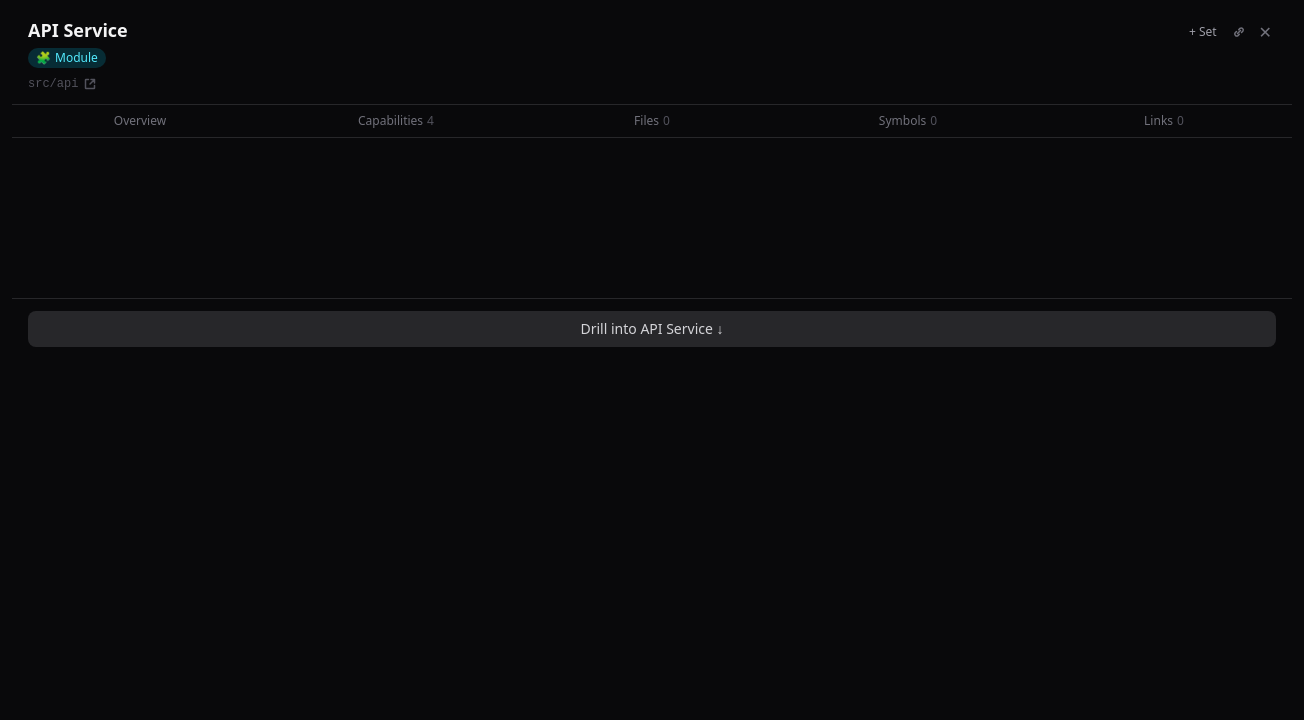
Test: P5-3 Capabilities tab › groups capabilities by kind in api, cli, event, job order and lists them
Click the button "Capabilities4" at {"x": 396, "y": 121}, box [268,105,524,137]
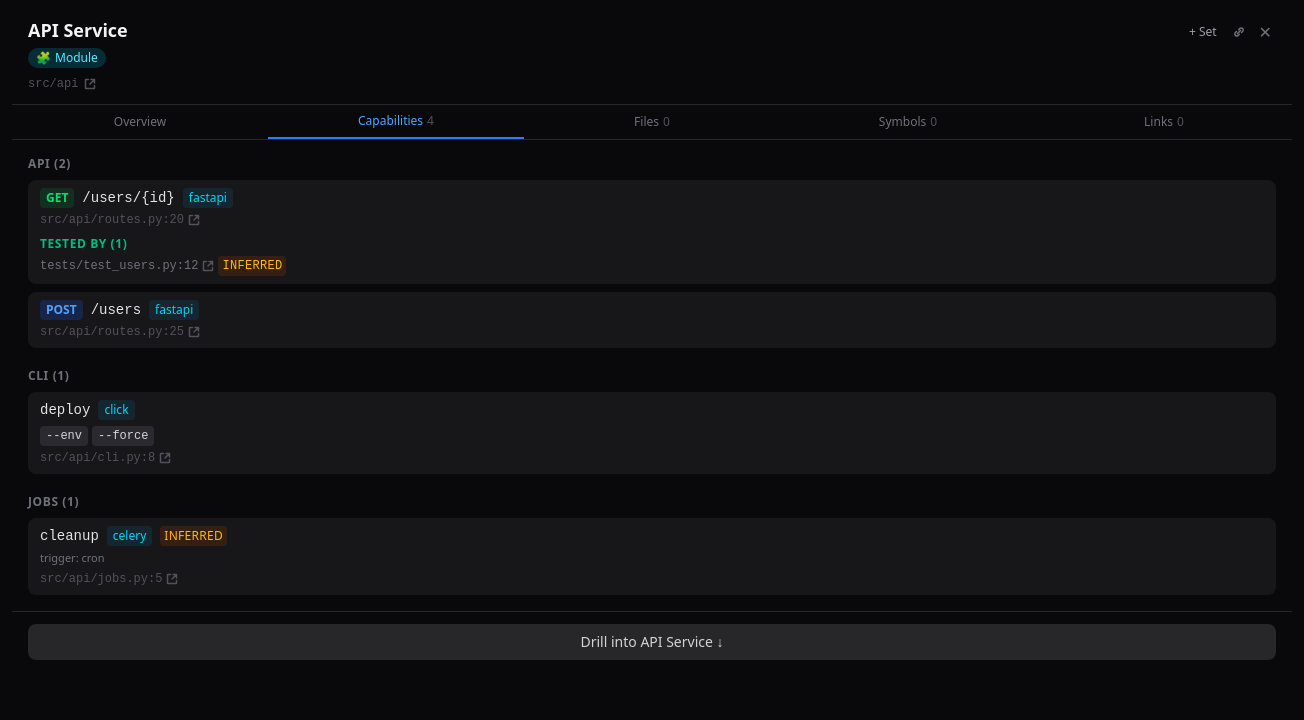
Expected: the heading "API (2)" is shown, [28,155,71,172]
Expected: the heading "CLI (1)" is shown, [28,367,69,384]
Expected: the heading "Jobs (1)" is shown, [28,493,79,510]
